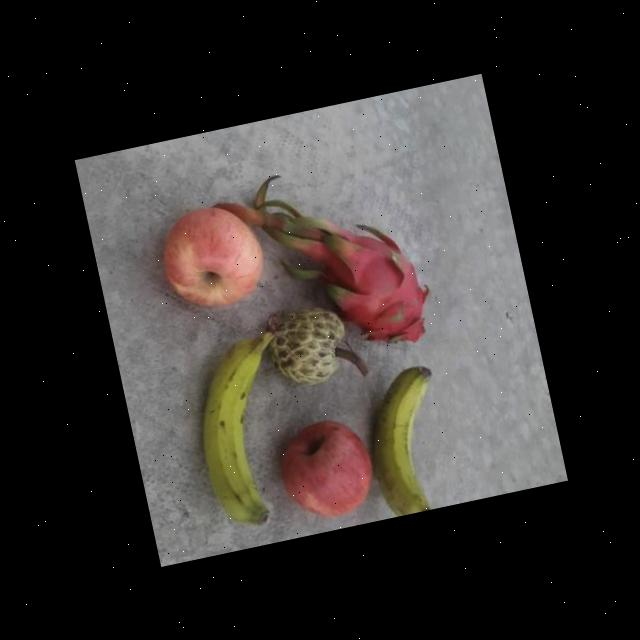Sakya fruit: (260, 296, 352, 396)
apple: (148, 195, 275, 325), (269, 411, 382, 530)
banana: (174, 313, 320, 536), (354, 364, 458, 520)
pitaya: (301, 206, 444, 370)
